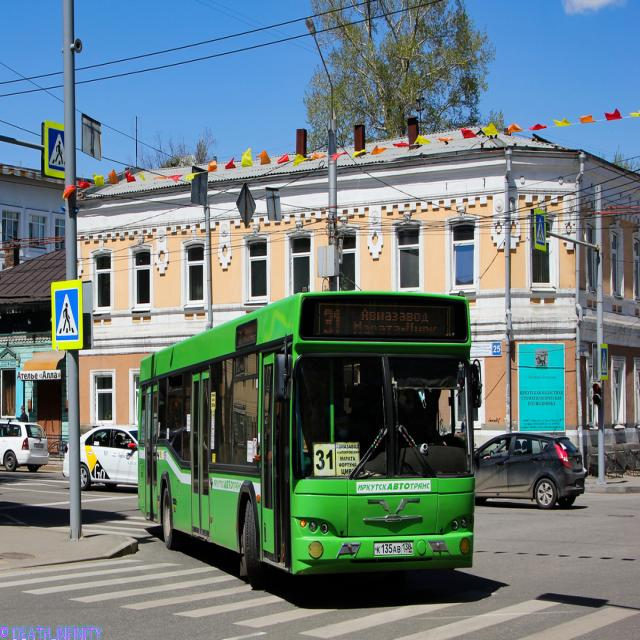number-of-bus: (315, 445, 336, 476)
